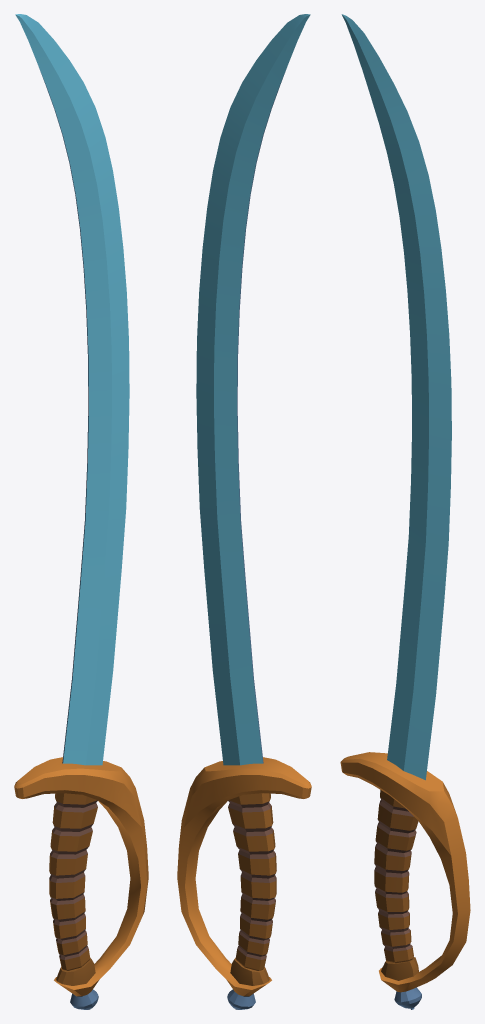
The model's file is SM_Sword15_Sabre_6FantasyBlue.fbx.
The picture shows the model from 3 angles, left to right: view 1: azimuth 30°, elevation 25°; view 2: azimuth 150°, elevation 25°; view 3: azimuth 330°, elevation 25°; orthographic projection. The views are drawn at different scales.
Parts seen in each view (by area): view 1: Cube.466, Cylinder.578, Cylinder.579; view 2: Cube.466, Cylinder.578, Cylinder.579; view 3: Cube.466, Cylinder.578, Cylinder.579.
Part boxes in pixels (left/top/right/bottom): Cube.466: left=15, top=14, right=129, bottom=765; Cylinder.578: left=14, top=757, right=148, bottom=1009; Cylinder.579: left=49, top=793, right=97, bottom=970; Cube.466: left=196, top=14, right=310, bottom=765; Cylinder.578: left=177, top=757, right=311, bottom=1009; Cylinder.579: left=228, top=793, right=276, bottom=970; Cube.466: left=341, top=14, right=451, bottom=780; Cylinder.578: left=340, top=752, right=470, bottom=1009; Cylinder.579: left=374, top=790, right=418, bottom=963.
Bounding box in the file's own units: 0.1312 × 0.95 × 0.0386.
